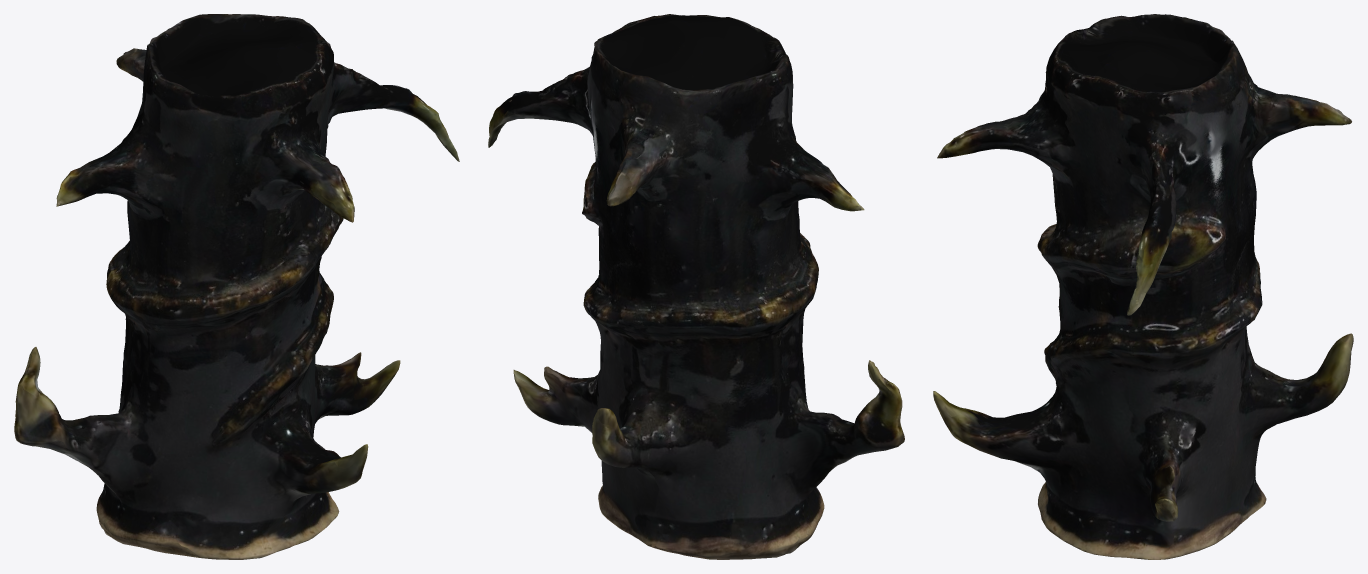
3 renders of one model, left to right at view 1: azimuth 30°, elevation 25°; view 2: azimuth 150°, elevation 25°; view 3: azimuth 270°, elevation 25°, orthographic. The views are drawn at different scales.
Size of the model in its own units: 0.5791 by 0.6201 by 0.4834.
Materials: 1 (1 with a texture image).
